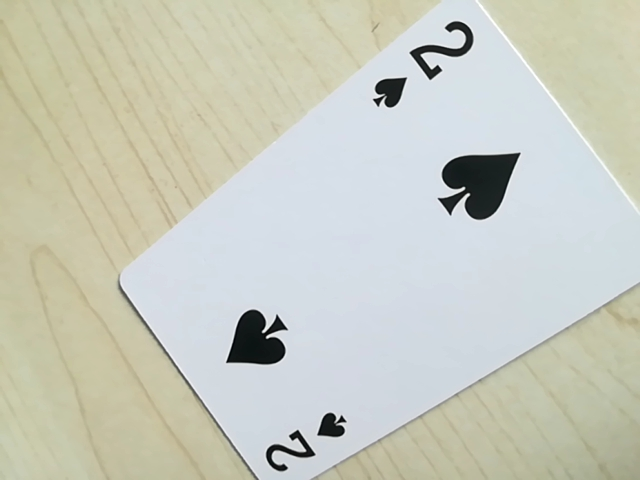ht 2: (369, 14, 482, 114), (249, 409, 353, 479)
